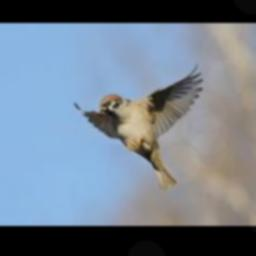Sparrow: (74, 63, 202, 190)
